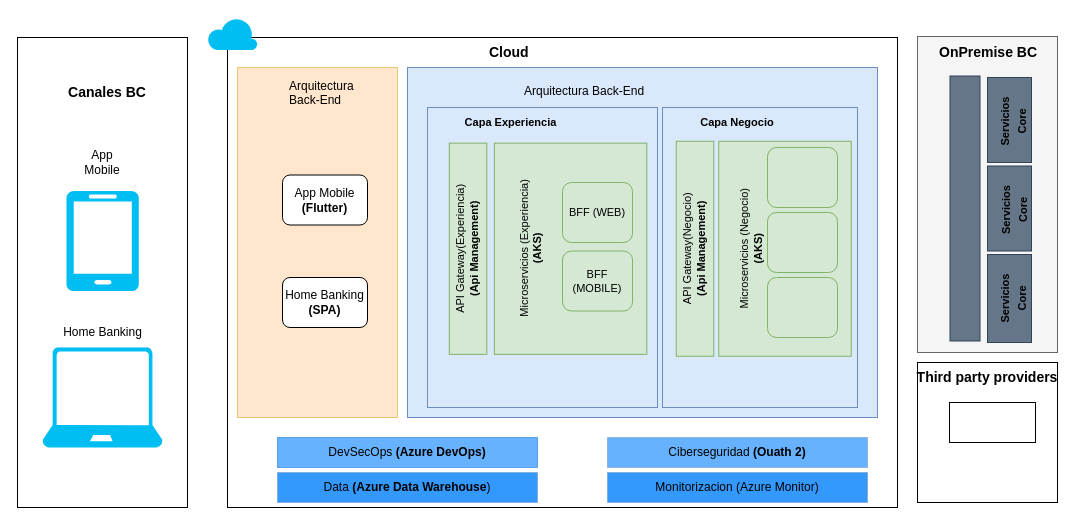
The diagram is 1080 pixels wide and 525 high, and some of its shapes have lost their labels. Here are the shapes that lost their labels. From the top down, the centre of each, then its label:
At (x=802, y=177): "Multicanal".
At (x=964, y=208): "Ca Aplication Gateway".
At (x=802, y=242): "Integracion".
At (x=802, y=307): "Soporte".
At (x=992, y=422): "Service".
